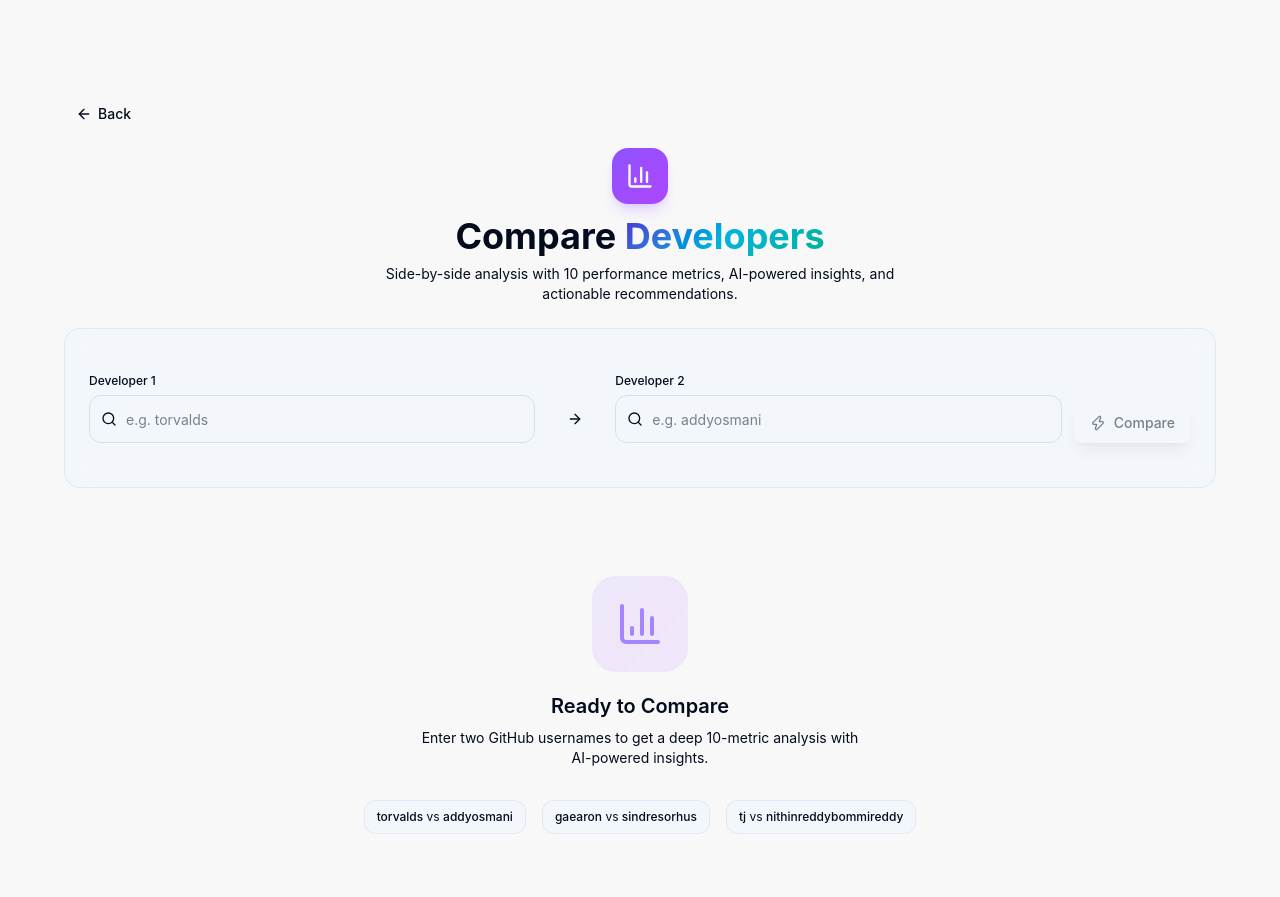
Test: ComparePage › renders both users' independent metric values
Type "alice" into the field with placeholder "e.g. torvalds" at (312, 419), box [89, 395, 535, 443]
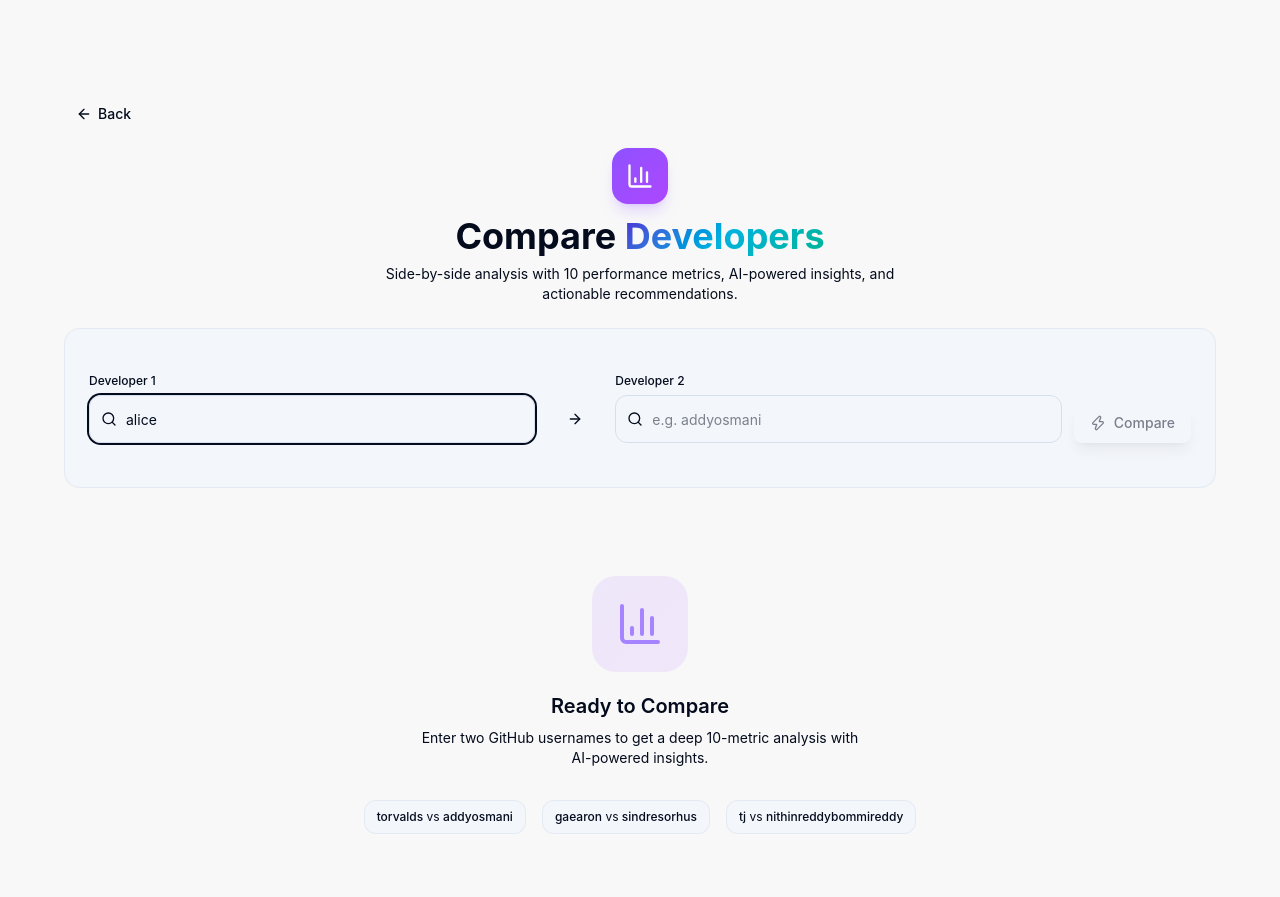
Type "bob" into the field with placeholder "e.g. addyosmani" at (839, 419), box [615, 395, 1062, 443]
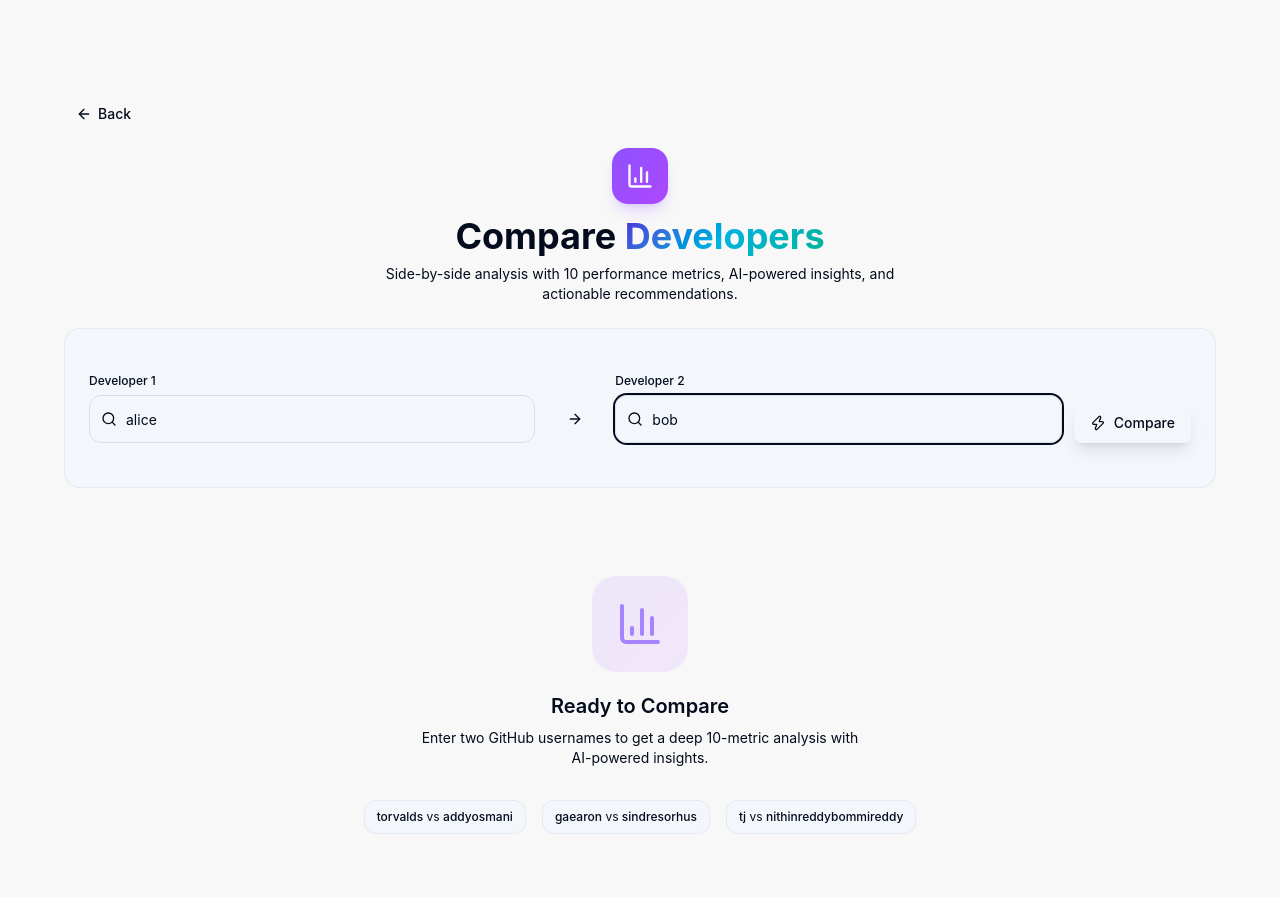
Click the button "Compare" at (1132, 423), box [1074, 403, 1191, 443]
(page scrolled)
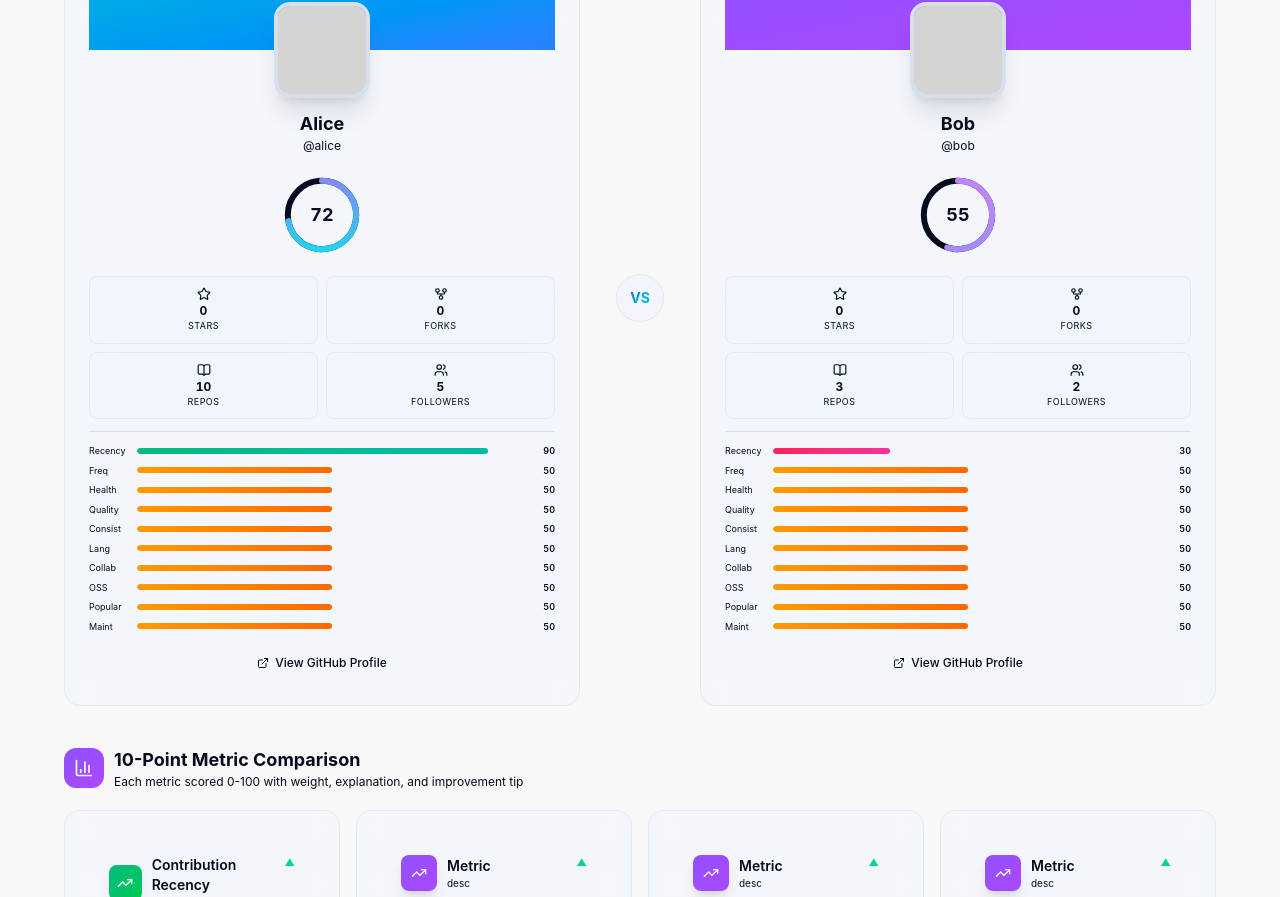
Result: the text "55" is shown at [946, 201, 970, 229]
Result: the text "90" is shown at [543, 445, 555, 456]
Result: the text "30" is shown at [1179, 445, 1191, 456]
